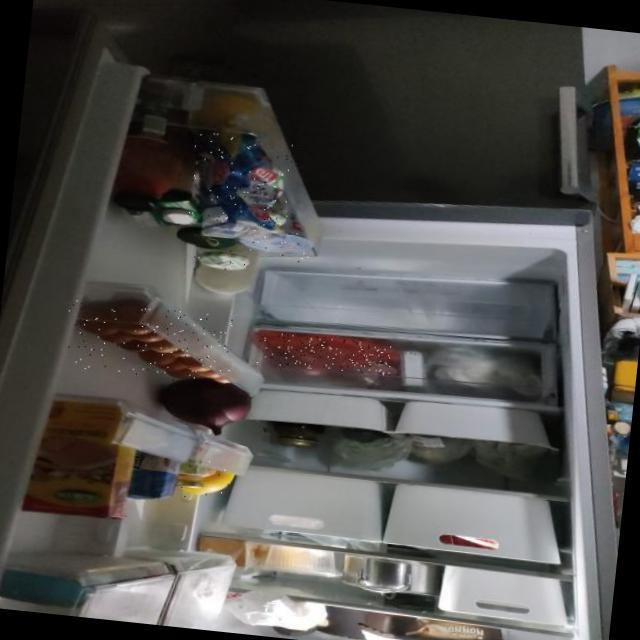Huevos: (61, 298, 237, 385)
Limón: (170, 456, 238, 504)
Queso: (184, 130, 294, 230)
Yogur: (240, 225, 313, 265)
Zanahoria: (253, 329, 392, 376)
olive: (192, 244, 246, 271)
